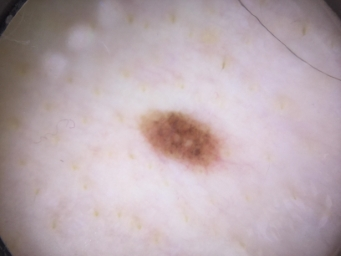seborrheic keratosis: (128, 96, 232, 175)
